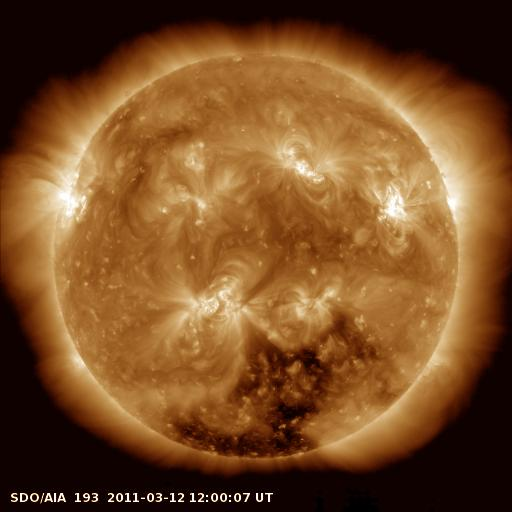coronal_hole: (168, 311, 371, 462)
